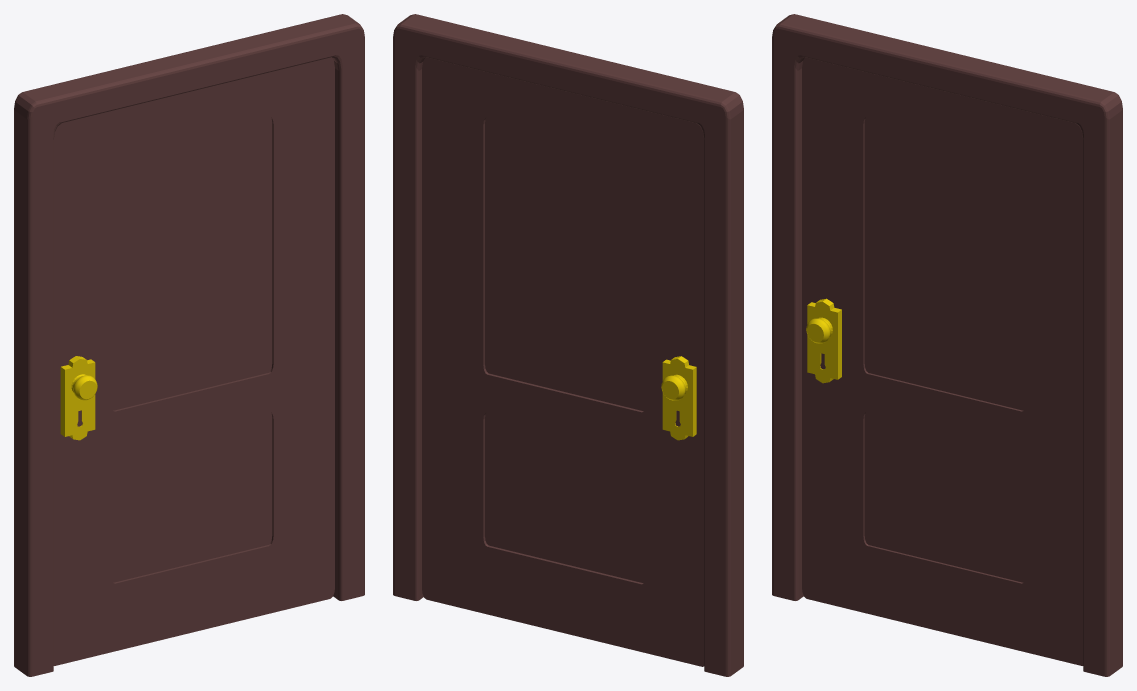
Rendered from Door.fbx.
3 views of the same model, side by side, from view 1: azimuth 30°, elevation 25°; view 2: azimuth 150°, elevation 25°; view 3: azimuth 330°, elevation 25° (orthographic).
Parts seen in each view (by area): view 1: Door.002, Door_Frame, Door.001, Knob_Ring.002; view 2: Door.002, Door_Frame, Door.003, Knob_Ring.002; view 3: Door.002, Door_Frame, Door.001, Knob_Ring.002.
Boxes of the visible parts, left/top/right/bottom form: Door.002: left=53, top=57, right=334, bottom=665; Door_Frame: left=14, top=14, right=364, bottom=676; Door.001: left=60, top=356, right=95, bottom=440; Knob_Ring.002: left=71, top=374, right=97, bottom=400; Door.002: left=422, top=57, right=704, bottom=666; Door_Frame: left=393, top=14, right=743, bottom=676; Door.003: left=662, top=356, right=696, bottom=440; Knob_Ring.002: left=661, top=374, right=687, bottom=400; Door.002: left=802, top=57, right=1083, bottom=665; Door_Frame: left=772, top=14, right=1122, bottom=676; Door.001: left=807, top=298, right=841, bottom=383; Knob_Ring.002: left=806, top=317, right=832, bottom=343.
Bounding box in the file's own units: 291 × 471 × 46.37.
